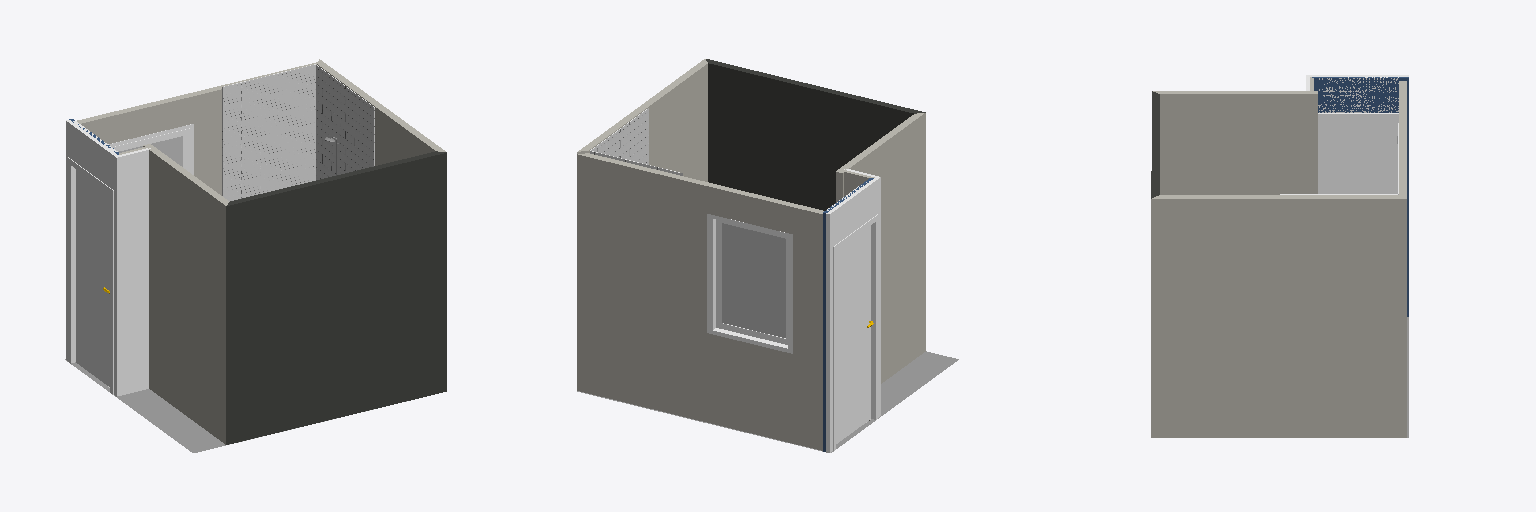
3 renders of one model, left to right at view 1: azimuth 30°, elevation 25°; view 2: azimuth 150°, elevation 25°; view 3: azimuth 270°, elevation 25°, orthographic.
Visible parts, largest first — view 1: wall_3_16, wall_4_22, wall_10_58, wall_5_28, sweethome3d_opening_on_hinge_1_door_71, wall_1_5, wall_9_53, ground_1, frame_63, wall_2_11, wall_6_34, wall_8_46 (+2 smaller); view 2: wall_1_4, wall_3_17, wall_4_22, sweethome3d_opening_on_hinge_1_door_71, sweethome3d_window_pane_on_hinge_1_78, wall_2_11, frame_72, frame_63, ground_1, wall_6_34, wall_9_53, sweethome3d_opening_on_hinge_1_77 (+2 smaller); view 3: wall_2_10, wall_4_23, sweethome3d_opening_on_hinge_1_door_71, wall_6_35, wall_7_40.
Part boxes in pixels (left/top/right/bottom): wall_3_16: left=226, top=153, right=446, bottom=444; wall_4_22: left=143, top=146, right=225, bottom=444; wall_10_58: left=223, top=65, right=315, bottom=201; wall_5_28: left=117, top=150, right=148, bottom=395; sweethome3d_opening_on_hinge_1_door_71: left=76, top=169, right=109, bottom=386; wall_1_5: left=81, top=89, right=221, bottom=195; wall_9_53: left=316, top=65, right=374, bottom=179; ground_1: left=65, top=359, right=406, bottom=452; frame_63: left=68, top=157, right=113, bottom=394; wall_2_11: left=317, top=64, right=434, bottom=165; wall_6_34: left=66, top=121, right=116, bottom=396; wall_8_46: left=68, top=122, right=110, bottom=184; wall_1_4: left=577, top=154, right=822, bottom=450; wall_3_17: left=708, top=63, right=913, bottom=210; wall_4_22: left=839, top=113, right=925, bottom=383; sweethome3d_opening_on_hinge_1_door_71: left=836, top=226, right=870, bottom=443; sweethome3d_window_pane_on_hinge_1_78: left=722, top=223, right=785, bottom=337; wall_2_11: left=583, top=64, right=707, bottom=181; frame_72: left=707, top=214, right=792, bottom=353; frame_63: left=833, top=214, right=878, bottom=450; ground_1: left=577, top=351, right=958, bottom=452; wall_6_34: left=826, top=177, right=880, bottom=452; wall_9_53: left=591, top=108, right=648, bottom=164; sweethome3d_opening_on_hinge_1_77: left=716, top=219, right=787, bottom=344; wall_2_10: left=1151, top=199, right=1406, bottom=437; wall_4_23: left=1160, top=94, right=1317, bottom=194; sweethome3d_opening_on_hinge_1_door_71: left=1318, top=118, right=1397, bottom=193; wall_6_35: left=1314, top=78, right=1408, bottom=316; wall_7_40: left=1318, top=78, right=1398, bottom=112.
Size of the model in its own units: 272 by 244 by 238.
Materials: 14 (2 with a texture image).